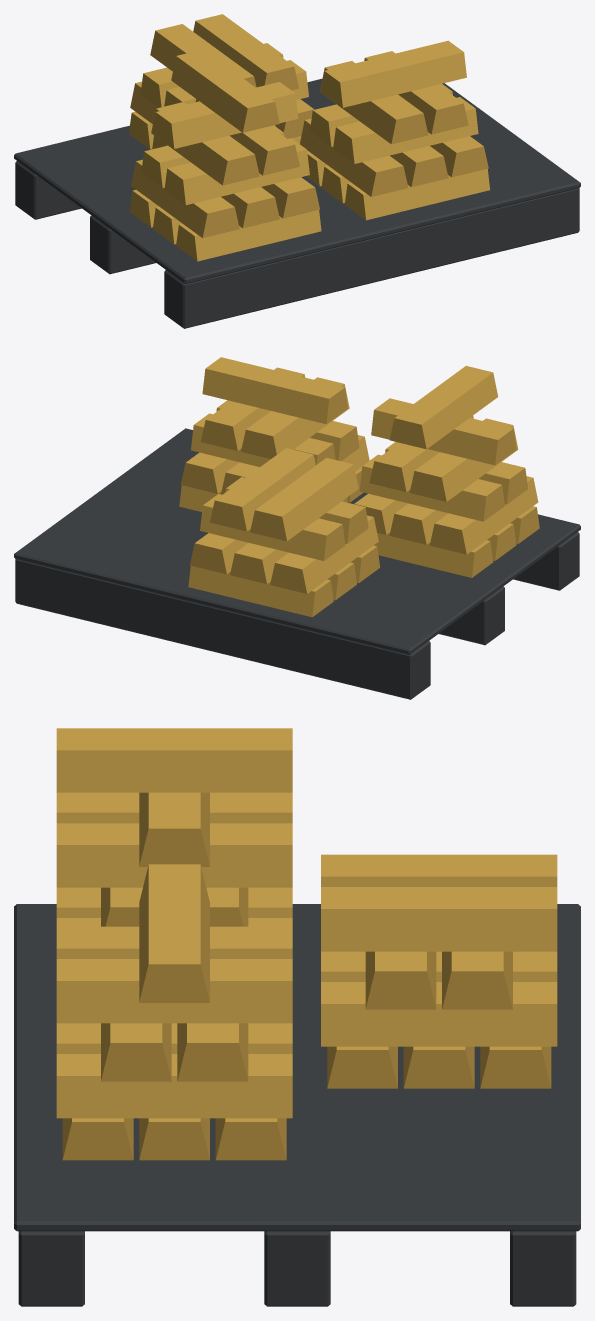
File: prop_of_gold_skid.glb
The picture shows the model from 3 angles, top to bottom: view 1: azimuth 30°, elevation 25°; view 2: azimuth 150°, elevation 25°; view 3: azimuth 270°, elevation 25°; orthographic projection. The views are drawn at different scales.
Parts seen in each view (by area): view 1: GoldSkid; view 2: GoldSkid; view 3: GoldSkid.
Part boxes in pixels (bbox=[...]): GoldSkid: bbox=[14, 14, 580, 328]; GoldSkid: bbox=[14, 357, 580, 699]; GoldSkid: bbox=[14, 728, 580, 1306].
Size of what is drawn, in the model's own units: 0.8 by 0.375 by 0.6.
